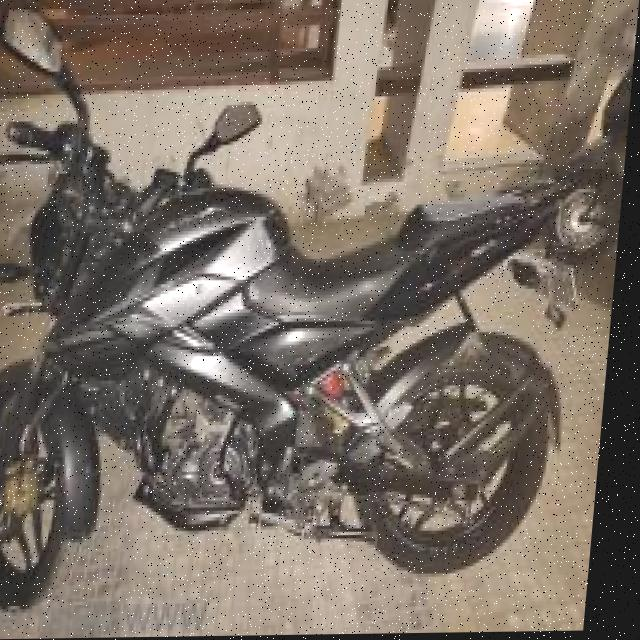bike: (0, 112, 592, 603)
